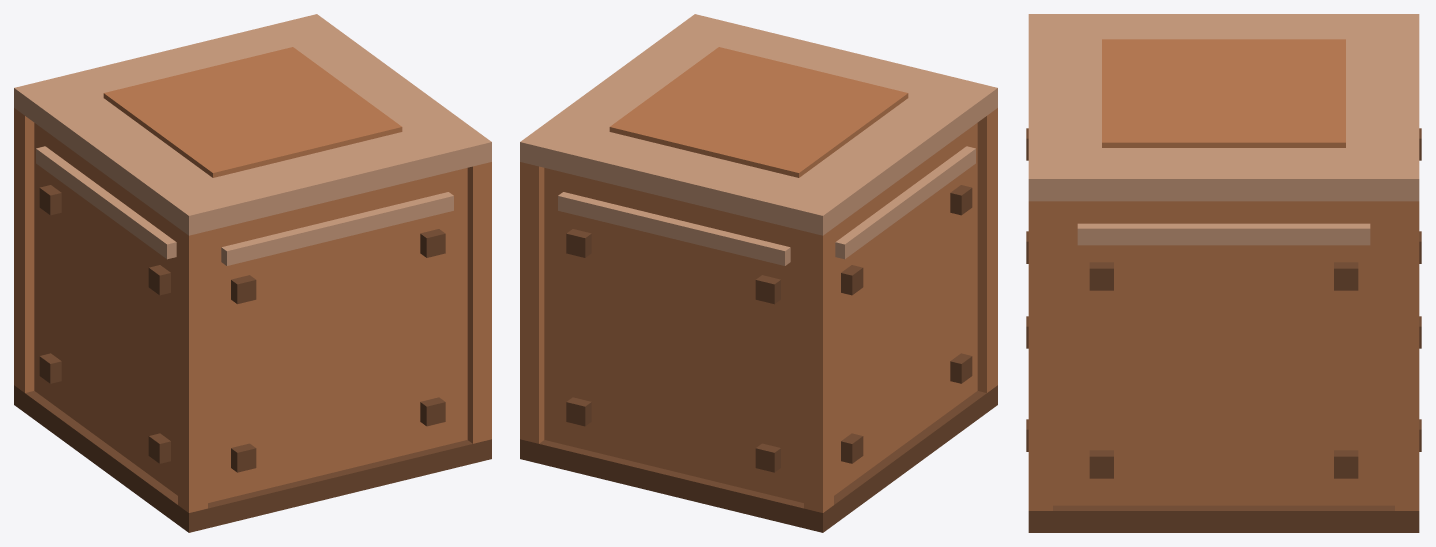
Rendered from alloyblock.glb.
The picture shows the model from 3 angles, left to right: view 1: azimuth 30°, elevation 25°; view 2: azimuth 150°, elevation 25°; view 3: azimuth 270°, elevation 25°; orthographic projection. The views are drawn at different scales.
Parts seen in each view (by area): view 1: body.037; view 2: body.037; view 3: body.037.
Part boxes in pixels (x1,y1,x2,y2): body.037: [14, 14, 491, 532]; body.037: [520, 14, 997, 532]; body.037: [1026, 14, 1421, 532].
Size of the model in its own units: 1.01 by 1.02 by 1.01.
